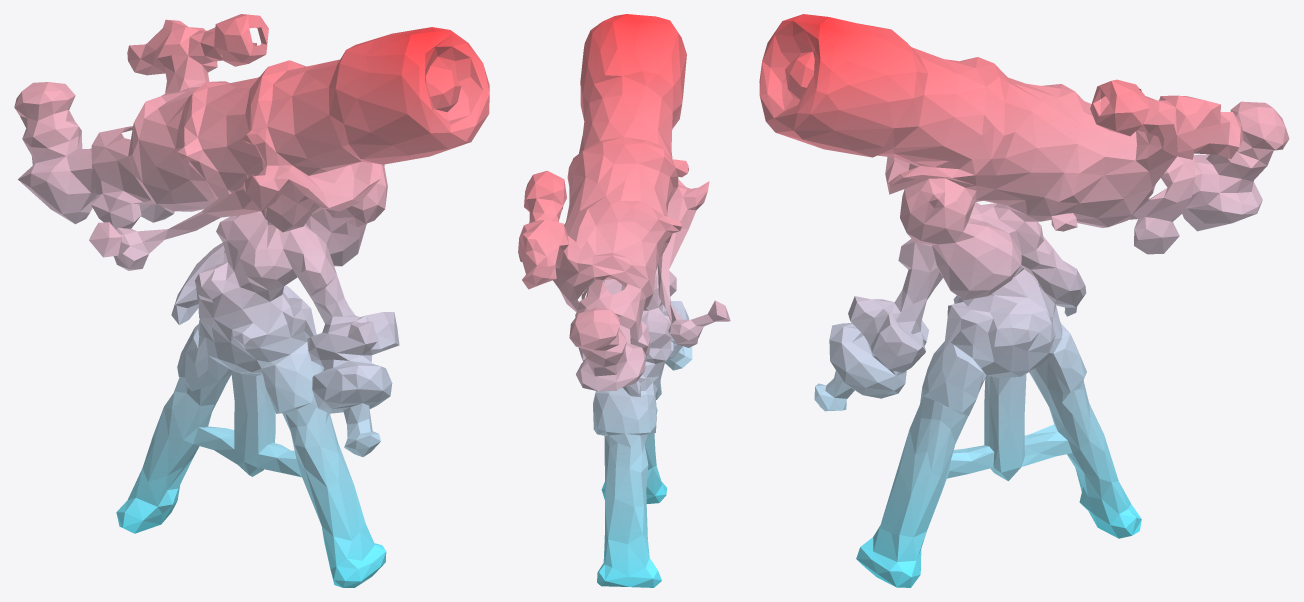
The model's file is 152_cyb_laser_gradient_fish_scales_2874_2026_10_03_c9deb1.glb.
3 renders of one model, left to right at view 1: azimuth 30°, elevation 25°; view 2: azimuth 150°, elevation 25°; view 3: azimuth 270°, elevation 25°, orthographic. The views are drawn at different scales.
Visible parts, largest first — view 1: geometry_0; view 2: geometry_0; view 3: geometry_0.
Boxes of the visible parts, x1,y1,x2,y2 form: geometry_0: (14, 14, 489, 587); geometry_0: (518, 14, 730, 587); geometry_0: (759, 14, 1289, 587).
Bounding box in the file's own units: 0.5313 × 1 × 0.8383.
